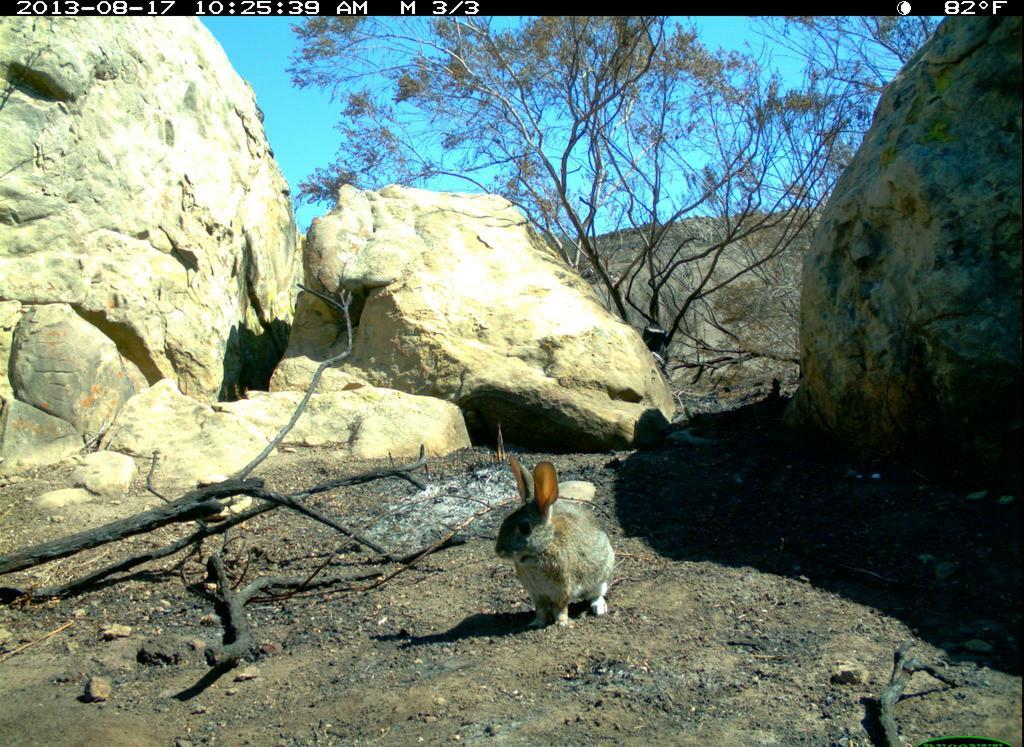rabbit: (489, 446, 625, 637)
